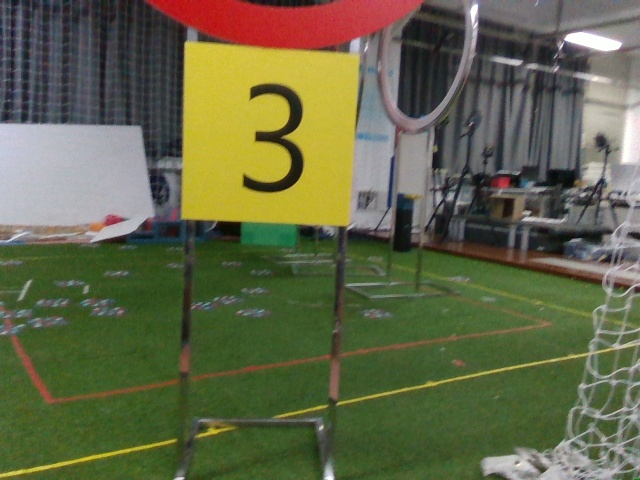target: (185, 46, 349, 219)
